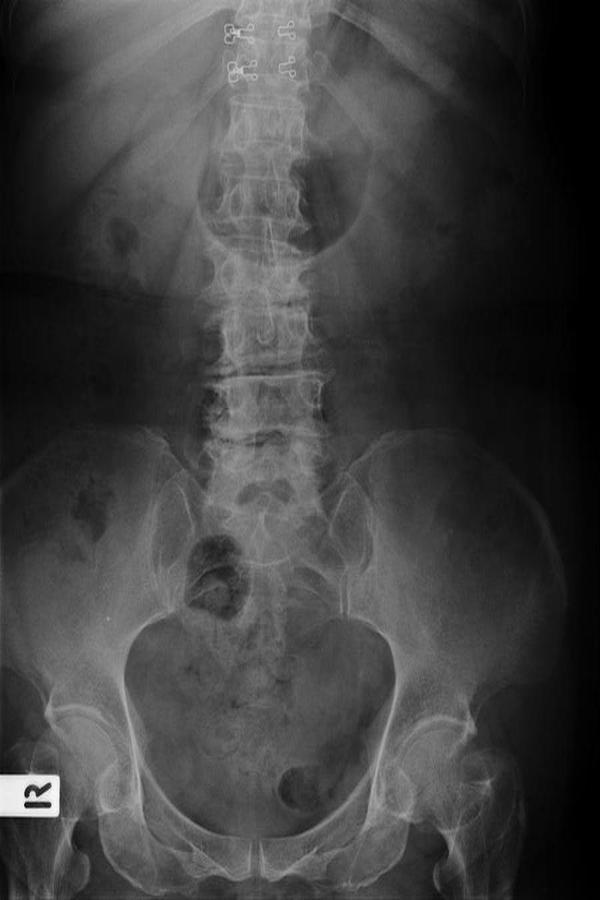lumbar scoliosis: (196, 7, 337, 568)
